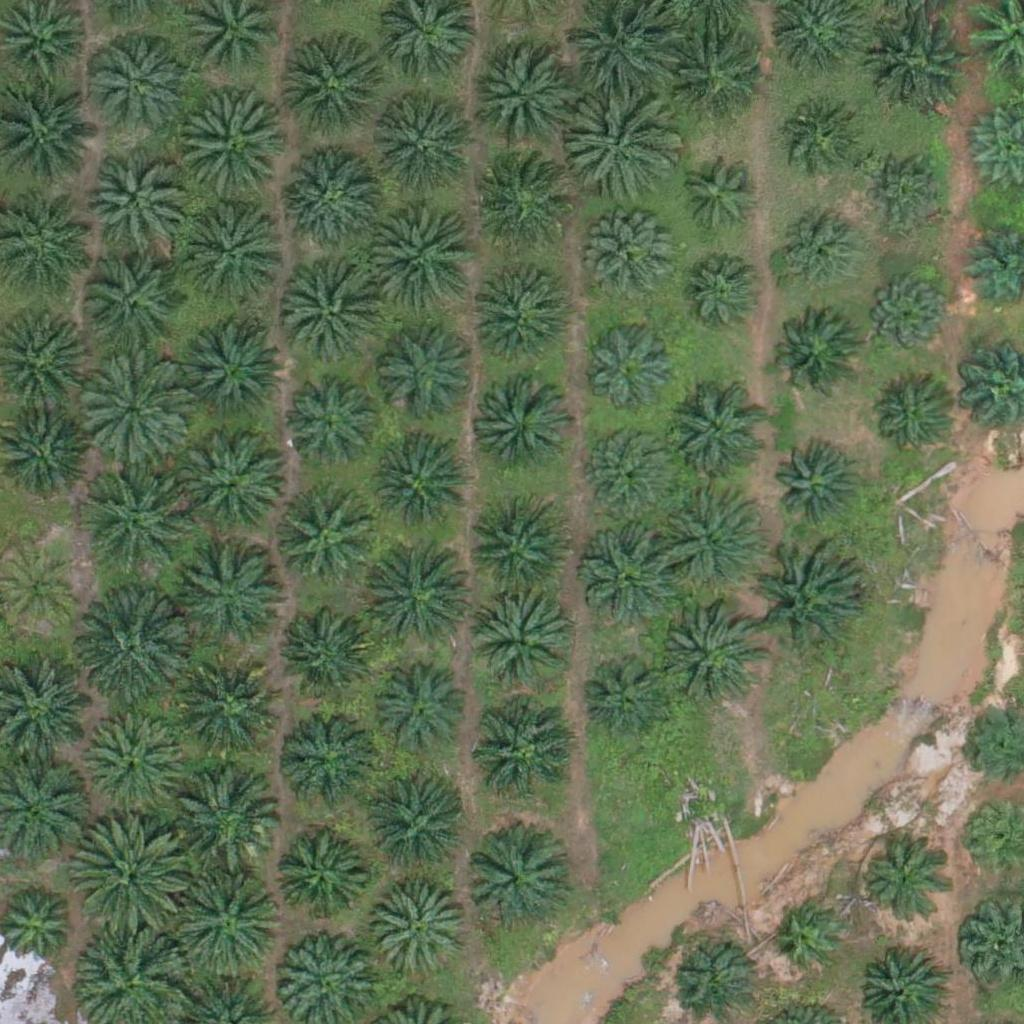Kelapa_Sawit: (75, 467, 188, 581), (175, 91, 288, 204), (367, 198, 480, 311), (748, 543, 861, 656), (168, 760, 281, 873), (75, 593, 188, 706), (373, 88, 485, 202), (566, 87, 678, 201), (171, 861, 283, 975), (73, 813, 185, 927), (76, 352, 188, 465), (177, 195, 289, 308), (476, 37, 588, 150), (651, 480, 763, 593), (363, 538, 475, 651), (88, 33, 188, 134), (85, 149, 185, 250), (183, 314, 283, 415), (278, 37, 378, 138), (284, 145, 384, 246), (283, 270, 383, 371), (376, 322, 476, 423), (469, 157, 569, 258), (473, 272, 573, 373), (474, 380, 574, 481), (669, 27, 769, 128), (463, 832, 563, 933), (370, 881, 470, 982), (268, 826, 368, 927), (657, 604, 757, 705), (582, 521, 682, 622), (466, 590, 566, 691), (466, 502, 566, 603), (370, 434, 470, 535), (84, 714, 184, 815), (78, 256, 178, 356), (582, 319, 682, 419), (668, 383, 768, 483), (869, 5, 969, 105), (368, 783, 468, 883), (472, 700, 572, 800), (368, 659, 468, 759), (280, 704, 380, 804), (272, 484, 372, 584), (277, 600, 377, 700), (183, 433, 283, 533), (183, 550, 283, 650), (175, 663, 275, 763), (673, 250, 761, 339), (587, 426, 675, 515), (779, 104, 867, 192), (868, 376, 955, 464), (863, 269, 950, 357), (863, 148, 950, 236), (670, 157, 757, 245), (773, 208, 860, 296), (769, 308, 856, 396), (286, 379, 373, 467), (589, 220, 676, 308), (861, 840, 948, 928), (774, 445, 861, 533), (583, 652, 670, 740), (773, 902, 848, 978)
